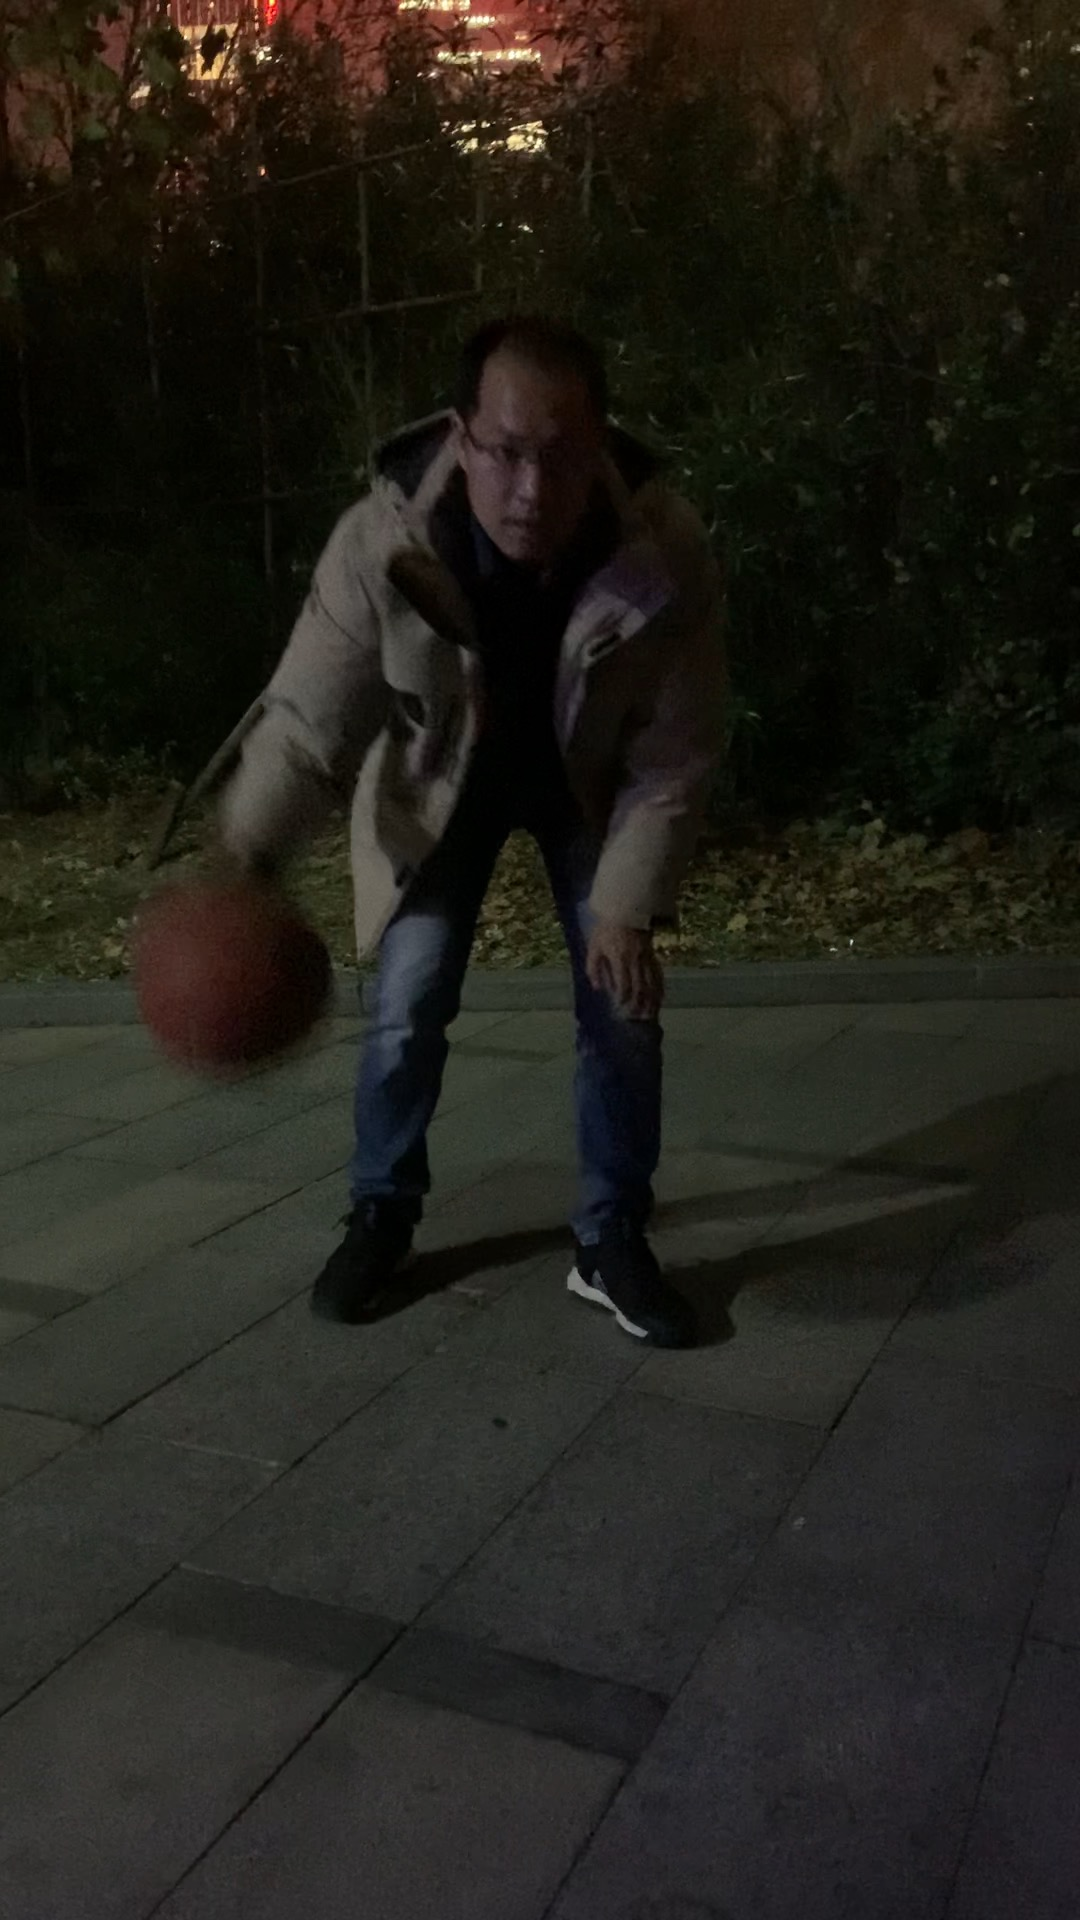ball: (136, 878, 336, 1077)
